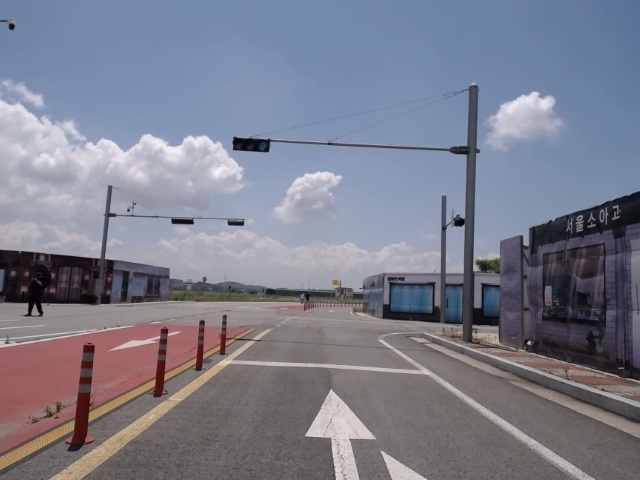green_3: (234, 139, 269, 152)
